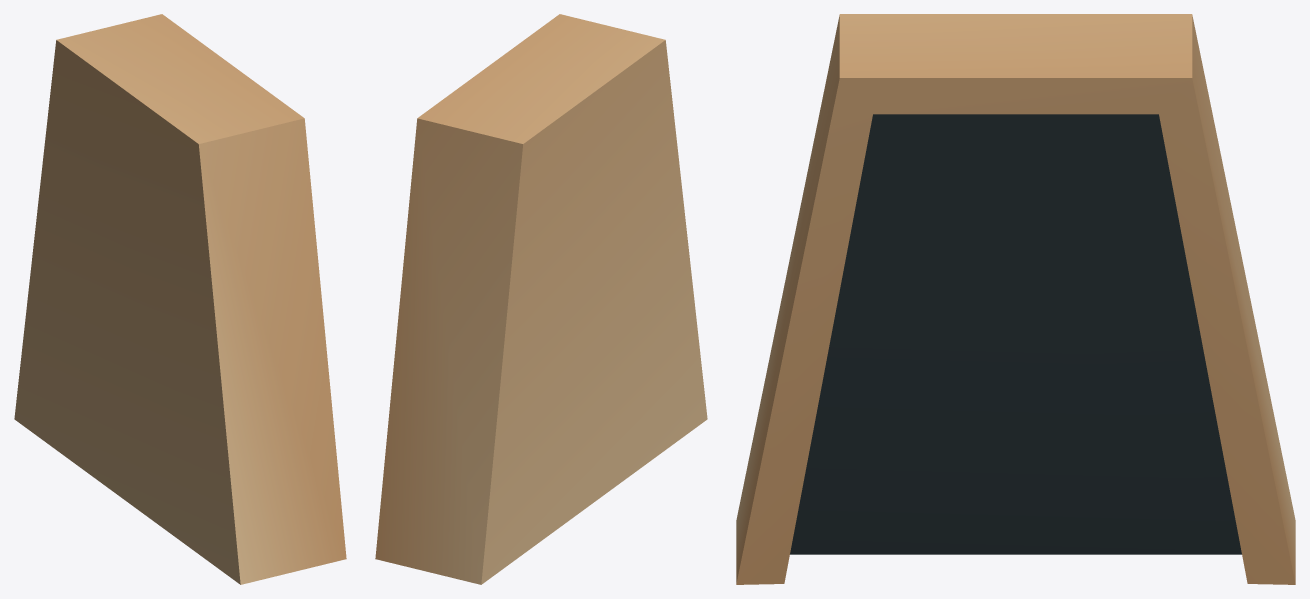
File: Door01.fbx
3 renders of one model, left to right at view 1: azimuth 30°, elevation 25°; view 2: azimuth 150°, elevation 25°; view 3: azimuth 270°, elevation 25°, orthographic. The views are drawn at different scales.
Parts seen in each view (by area): view 1: Door01; view 2: Door01; view 3: Door01.
Part boxes in pixels (x1,y1,x2,y2): Door01: [14, 14, 346, 584]; Door01: [375, 14, 707, 584]; Door01: [736, 14, 1295, 584].
Bounding box in the file's own units: 0.1499 × 0.5546 × 0.5546.
1 material, 1 textured.
